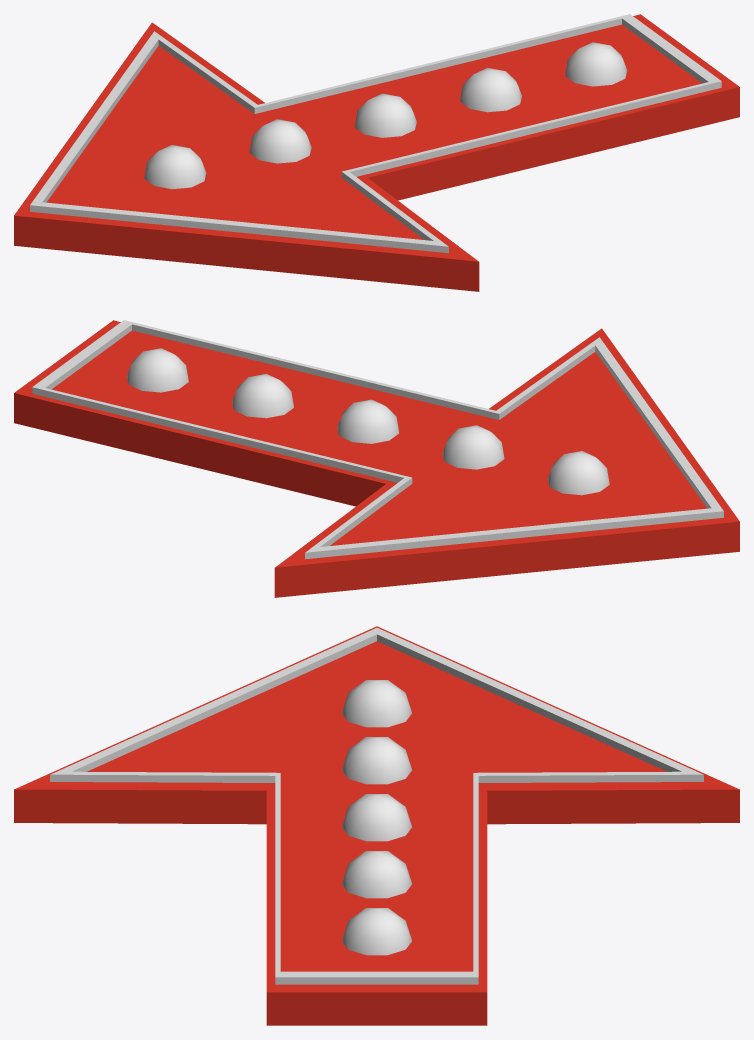
File: arrowSign.fbx
3 renders of one model, top to bottom at view 1: azimuth 30°, elevation 25°; view 2: azimuth 150°, elevation 25°; view 3: azimuth 270°, elevation 25°, orthographic. The views are drawn at different scales.
Visible parts, largest first — view 1: Arrow Sign; view 2: Arrow Sign; view 3: Arrow Sign.
Boxes of the visible parts, left/top/right/bottom form: Arrow Sign: left=14, top=14, right=739, bottom=291; Arrow Sign: left=14, top=320, right=739, bottom=597; Arrow Sign: left=14, top=626, right=739, bottom=1025.
Bounding box in the file's own units: 96.93 × 81.22 × 8.08.
